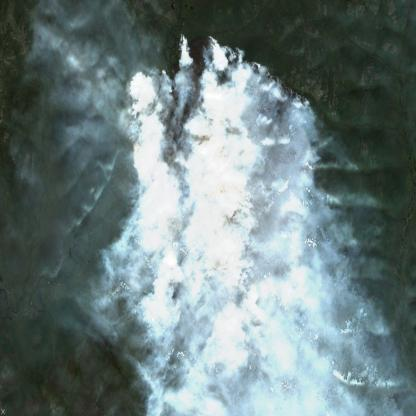fire: (125, 28, 320, 314)
